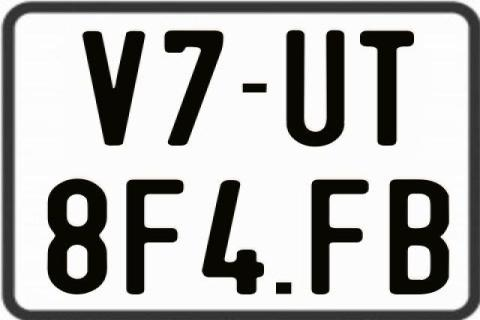0: (47, 178, 112, 298), (199, 177, 264, 297), (162, 31, 224, 147)
B: (390, 178, 452, 298)
F: (124, 178, 185, 296), (310, 180, 368, 298)
T: (357, 29, 412, 149)
U: (284, 31, 343, 150)
V: (83, 32, 150, 150)
